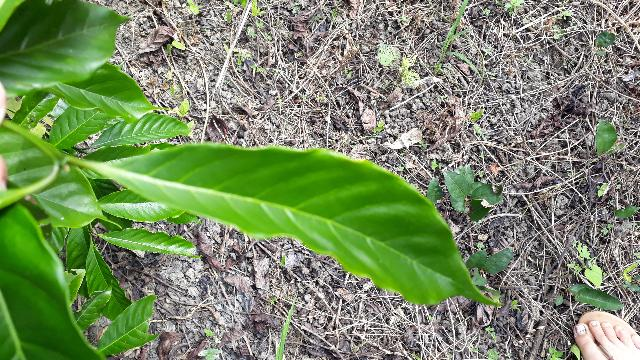healthy: (107, 147, 502, 304)
